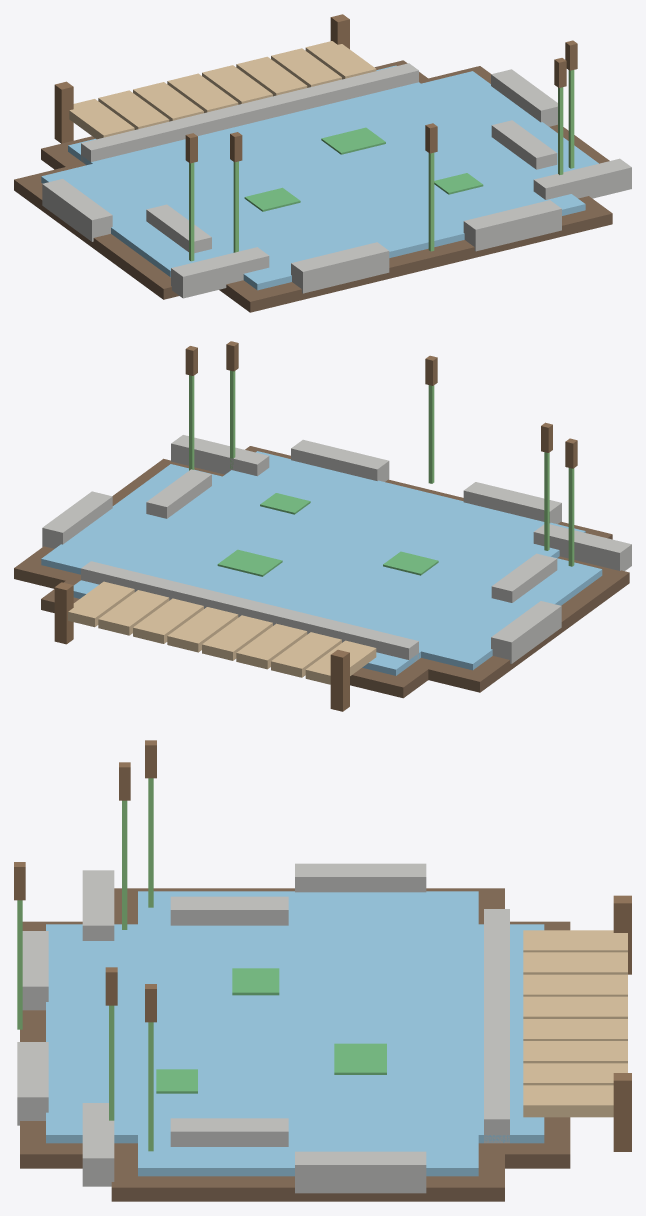
Rendered from fishing_spot.glb.
The picture shows the model from 3 angles, top to bottom: view 1: azimuth 30°, elevation 25°; view 2: azimuth 150°, elevation 25°; view 3: azimuth 270°, elevation 25°; orthographic projection. The views are drawn at different scales.
Visible parts, largest first — view 1: fishing_spot; view 2: fishing_spot; view 3: fishing_spot.
Boxes of the visible parts, x1=… form: fishing_spot: x1=14, y1=14, x2=631, y2=312; fishing_spot: x1=14, y1=341, x2=631, y2=711; fishing_spot: x1=14, y1=740, x2=631, y2=1201.
Bounding box in the file's own units: 2.72 × 0.82 × 2.36.
